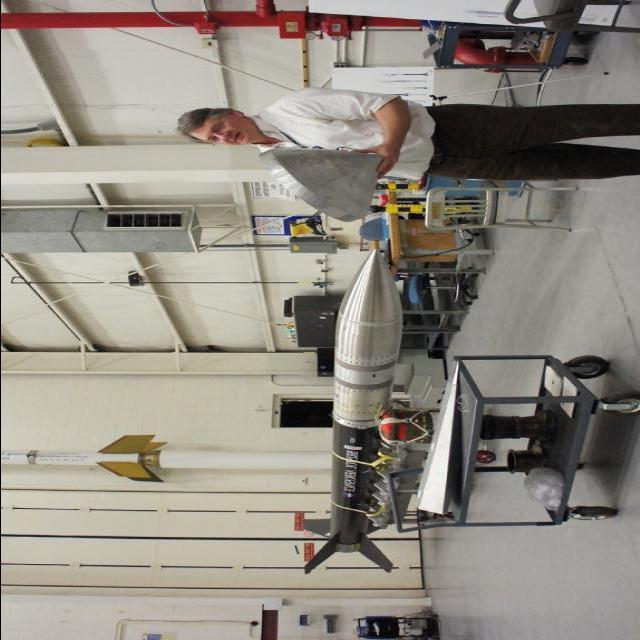missile: (299, 248, 409, 575), (0, 434, 159, 485), (0, 449, 148, 464)
